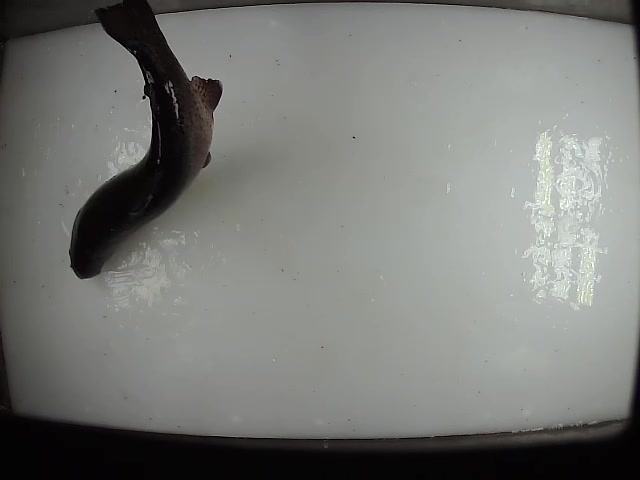fish: (67, 1, 224, 281)
